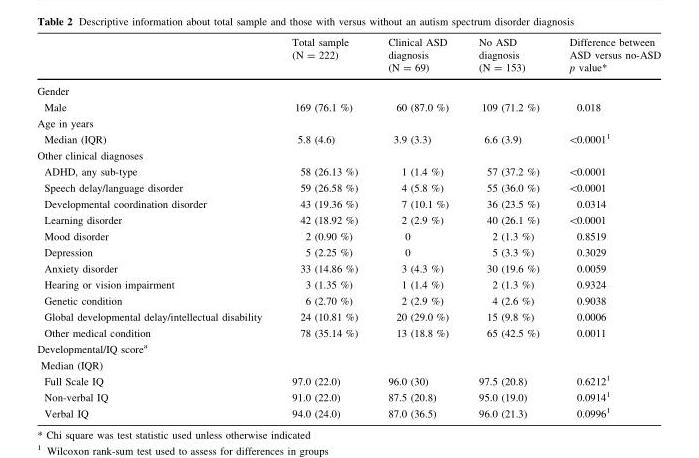table: (36, 37, 660, 418)
table column: (36, 37, 276, 418), (552, 37, 660, 418), (276, 37, 372, 418), (372, 37, 463, 418), (463, 37, 552, 418)
table column header: (36, 37, 660, 79)
table projected row header: (36, 340, 660, 372), (36, 79, 660, 99), (36, 115, 660, 130), (36, 148, 660, 162)
table row: (36, 37, 660, 79), (36, 340, 660, 372), (36, 79, 660, 99), (36, 130, 660, 148), (36, 162, 660, 179), (36, 179, 660, 196), (36, 211, 660, 228), (36, 308, 660, 325), (36, 99, 660, 115), (36, 228, 660, 244), (36, 244, 660, 260), (36, 260, 660, 276), (36, 276, 660, 292), (36, 292, 660, 308), (36, 372, 660, 388), (36, 388, 660, 404), (36, 115, 660, 130), (36, 196, 660, 211), (36, 325, 660, 340), (36, 148, 660, 162), (36, 404, 660, 418)
